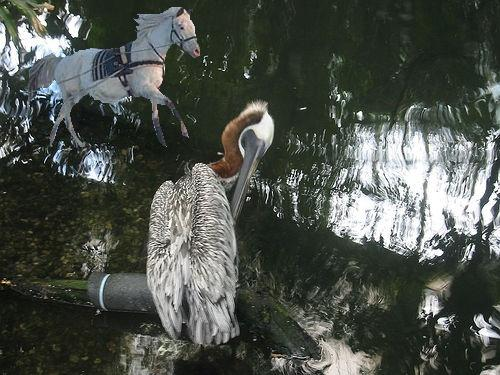tampered: (29, 8, 200, 147)
